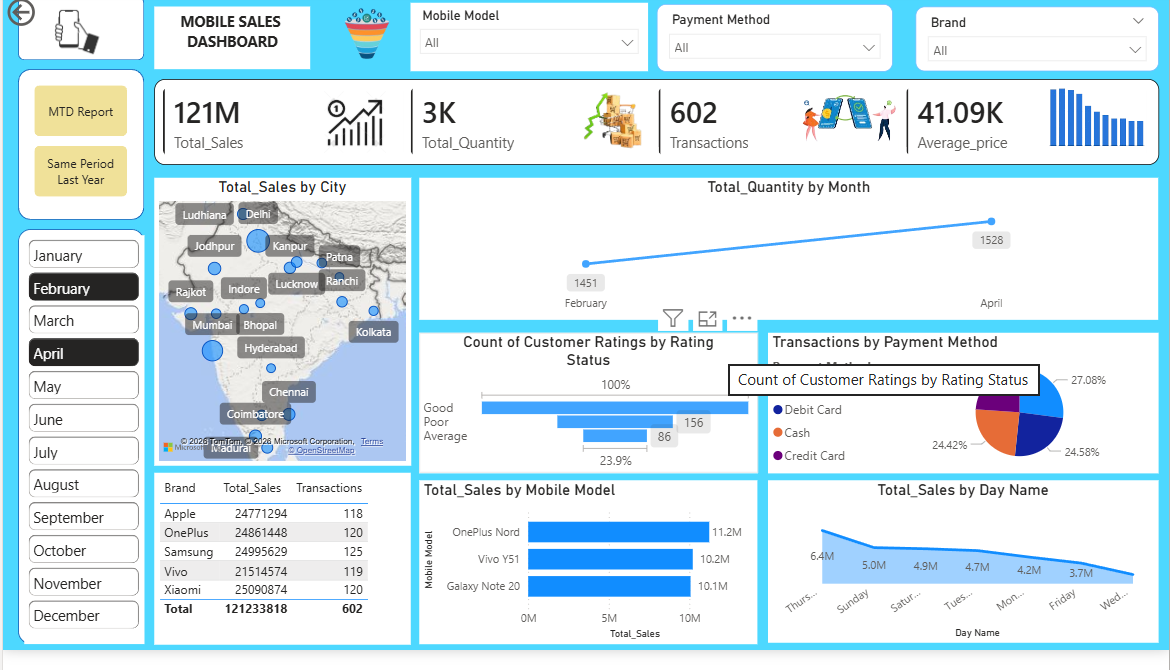

The dashboard page shown, as its layout file describes it:
{"tool":"powerbi","page":{"name":"Dashboard","canvas":[1280,720],"ordinal":0},"visuals":[{"type":"shape","box":[16.5,2.7,138.6,70],"z":0},{"type":"image","box":[41.2,11,81,61.7],"z":1000},{"type":"shape","box":[17.1,82.9,138.6,165.7],"z":2000},{"type":"shape","box":[16.5,258,138.6,455.6],"z":3000},{"type":"advancedSlicerVisual","fields":{"Values":["Custom_Calender.Date.Variation.Date Hierarchy.Month"]},"box":[23.3,264.8,131.7,448.7],"z":4000},{"type":"cardVisual","fields":{"Data":["Mobile_sales_data.Total_Sales","Mobile_sales_data.Total_Quantity","Mobile_sales_data.Transactions","Mobile_sales_data.Average_price"]},"box":[166,93.3,1103.3,94.7],"z":5000},{"type":"slicer","fields":{"Values":["Mobile_sales_data.Mobile Model"]},"box":[447.3,9.6,260.7,75.5],"z":6000},{"type":"slicer","fields":{"Values":["Mobile_sales_data.Payment Method"]},"box":[717.7,11,259.3,74.1],"z":7000},{"type":"slicer","fields":{"Values":["Mobile_sales_data.Brand"]},"box":[1001.7,13.7,267.6,71.4],"z":8000},{"type":"textbox","box":[166,13.7,171.5,68.6],"z":9000},{"type":"image","box":[337.6,107,97.4,67.2],"z":10000},{"type":"image","box":[577.7,93.3,140,81],"z":11000},{"type":"image","box":[852.1,85.1,149.6,81],"z":12000},{"type":"image","box":[1134.8,100.2,123.5,67.2],"z":13000},{"type":"image","box":[328,13.7,142.7,59],"z":14000},{"type":"map","fields":{"Category":["Mobile_sales_data.City"],"Size":["Mobile_sales_data.Total_Sales"]},"box":[165.7,201.4,281.4,315.7],"z":15000},{"type":"lineChart","fields":{"Y":["Mobile_sales_data.Total_Quantity"],"Category":["Custom_Calender.Date.Variation.Date Hierarchy.Month"]},"box":[457.1,201.4,811.4,155.7],"z":16000},{"type":"funnel","fields":{"Y":["CountNonNull(Mobile_sales_data.Customer Ratings)"],"Category":["Mobile_sales_data.Rating Status"]},"box":[457.1,371.4,371.4,154.3],"z":17000},{"type":"pieChart","fields":{"Category":["Mobile_sales_data.Payment Method"],"Y":["Mobile_sales_data.Transactions"]},"box":[840,371.4,428.6,154.3],"z":18000},{"type":"barChart","fields":{"Y":["Mobile_sales_data.Total_Sales"],"Category":["Mobile_sales_data.Mobile Model"]},"box":[457.1,534.3,371.4,180],"z":19000},{"type":"stackedAreaChart","fields":{"Y":["Mobile_sales_data.Total_Sales"],"Category":["Custom_Calender.Day Name"]},"box":[840,534.3,428.6,178.6],"z":20000},{"type":"tableEx","fields":{"Values":["Mobile_sales_data.Brand","Mobile_sales_data.Total_Sales","Mobile_sales_data.Transactions"]},"box":[165.7,525.7,281.4,188.6],"z":21000},{"type":"actionButton","box":[0,0,100,40],"z":22000},{"type":"pageNavigator","box":[34.3,100,102.9,122.9],"z":23000}]}

Visuals, with their boxes in screenshot pixels (x1, y1, x2, y2), scaled from the page's 1280x720 canvas onto the 1170x670 screenshot:
shape: l=15, t=3, r=142, b=68
image: l=38, t=10, r=112, b=68
shape: l=16, t=77, r=142, b=231
shape: l=15, t=240, r=142, b=664
advancedSlicerVisual - Custom_Calender.Date.Variation.Date Hierarchy.Month: l=21, t=246, r=142, b=664
cardVisual - Mobile_sales_data.Total_Sales x Mobile_sales_data.Total_Quantity: l=152, t=87, r=1160, b=175
slicer - Mobile_sales_data.Mobile Model: l=409, t=9, r=647, b=79
slicer - Mobile_sales_data.Payment Method: l=656, t=10, r=893, b=79
slicer - Mobile_sales_data.Brand: l=916, t=13, r=1160, b=79
textbox: l=152, t=13, r=308, b=77
image: l=309, t=100, r=398, b=162
image: l=528, t=87, r=656, b=162
image: l=779, t=79, r=916, b=155
image: l=1037, t=93, r=1150, b=156
image: l=300, t=13, r=430, b=68
map - Mobile_sales_data.City x Mobile_sales_data.Total_Sales: l=151, t=187, r=409, b=481
lineChart - Mobile_sales_data.Total_Quantity x Custom_Calender.Date.Variation.Date Hierarchy.Month: l=418, t=187, r=1159, b=332
funnel - CountNonNull(Mobile_sales_data.Customer Ratings) x Mobile_sales_data.Rating Status: l=418, t=346, r=757, b=489
pieChart - Mobile_sales_data.Payment Method x Mobile_sales_data.Transactions: l=768, t=346, r=1160, b=489
barChart - Mobile_sales_data.Total_Sales x Mobile_sales_data.Mobile Model: l=418, t=497, r=757, b=665
stackedAreaChart - Mobile_sales_data.Total_Sales x Custom_Calender.Day Name: l=768, t=497, r=1160, b=663
tableEx - Mobile_sales_data.Brand x Mobile_sales_data.Total_Sales: l=151, t=489, r=409, b=665
actionButton: l=0, t=0, r=91, b=37
pageNavigator: l=31, t=93, r=125, b=207
